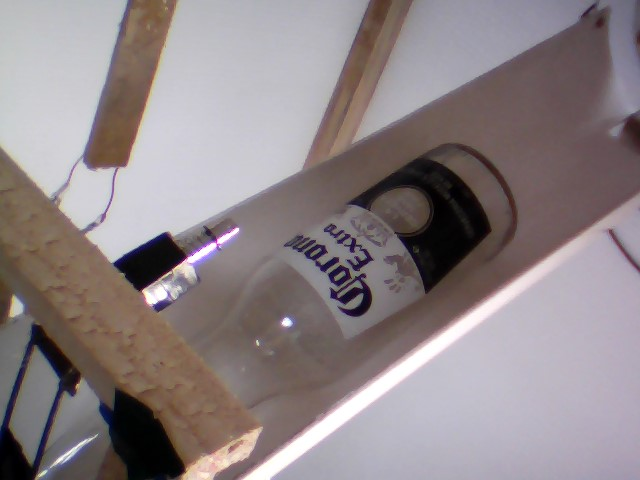vidrio: (171, 134, 529, 416)
